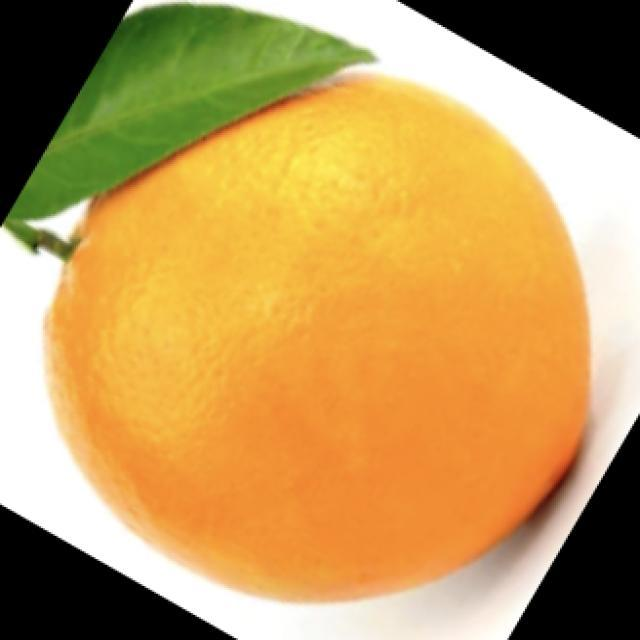matang: (47, 76, 589, 600)
